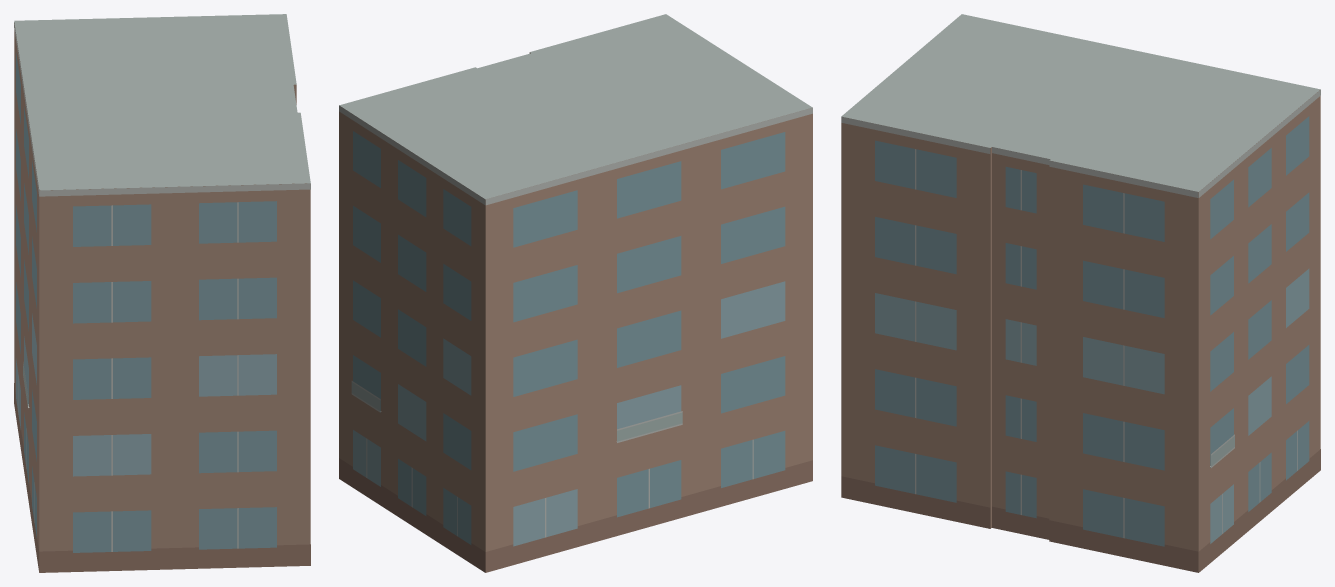
Rendered from survey-upis-32880494.glb.
3 renders of one model, left to right at view 1: azimuth 30°, elevation 25°; view 2: azimuth 150°, elevation 25°; view 3: azimuth 270°, elevation 25°, orthographic. The views are drawn at different scales.
Visible parts, largest first — view 1: survey-upis-32880494.tmp; view 2: survey-upis-32880494.tmp; view 3: survey-upis-32880494.tmp.
Part boxes in pixels (<box>): survey-upis-32880494.tmp: <box>14,14,310,572</box>; survey-upis-32880494.tmp: <box>339,14,812,572</box>; survey-upis-32880494.tmp: <box>841,14,1320,572</box>.
Size of the model in its own units: 15.04 by 15 by 17.12.
